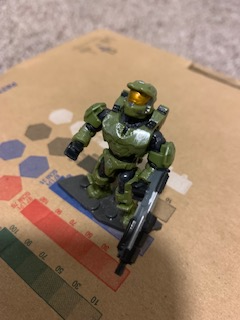chief: (62, 79, 176, 230)
rifle: (114, 167, 170, 277)
spartan: (60, 77, 174, 228)
